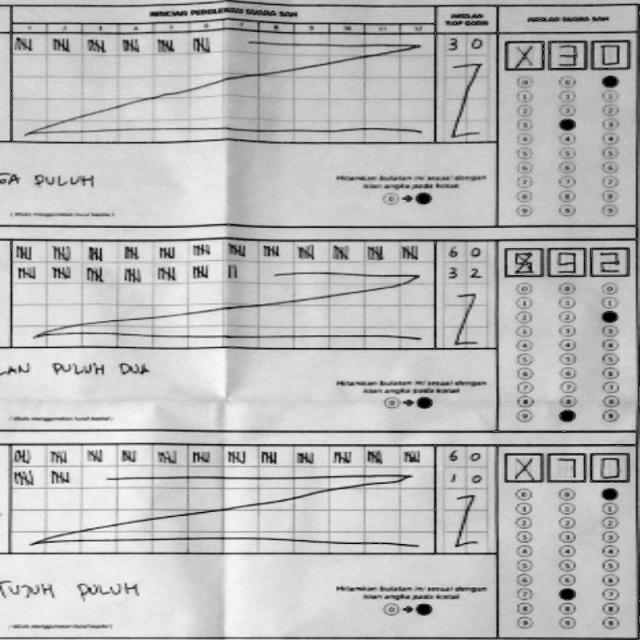Suara: (498, 238, 632, 278), (500, 33, 633, 70), (500, 448, 630, 485)
